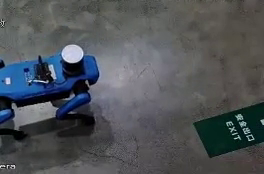robot dog: (2, 42, 101, 151)
